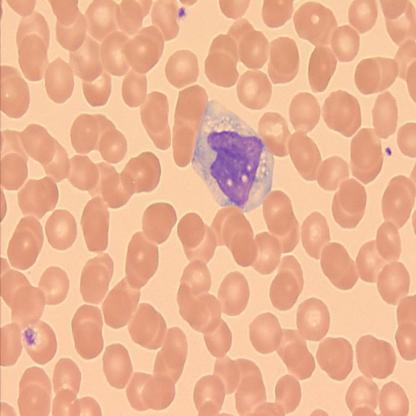Monocyte: (188, 98, 276, 214)
